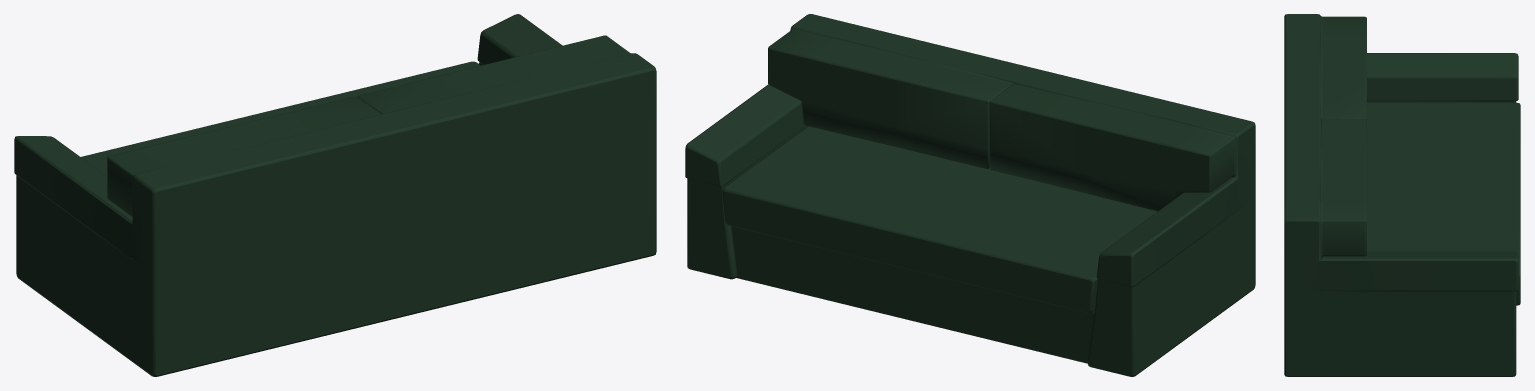
The model's file is SM_Couch.fbx.
3 views of the same model, side by side, from view 1: azimuth 30°, elevation 25°; view 2: azimuth 150°, elevation 25°; view 3: azimuth 270°, elevation 25° (orthographic). The views are drawn at different scales.
Visible parts, largest first — view 1: SM_Couch; view 2: SM_Couch; view 3: SM_Couch.
Boxes of the visible parts, left/top/right/bottom form: SM_Couch: left=14, top=14, right=656, bottom=376; SM_Couch: left=685, top=14, right=1255, bottom=376; SM_Couch: left=1284, top=14, right=1520, bottom=376.
Size of what is drawn, in the model's own units: 2807 by 1000 by 1356.
